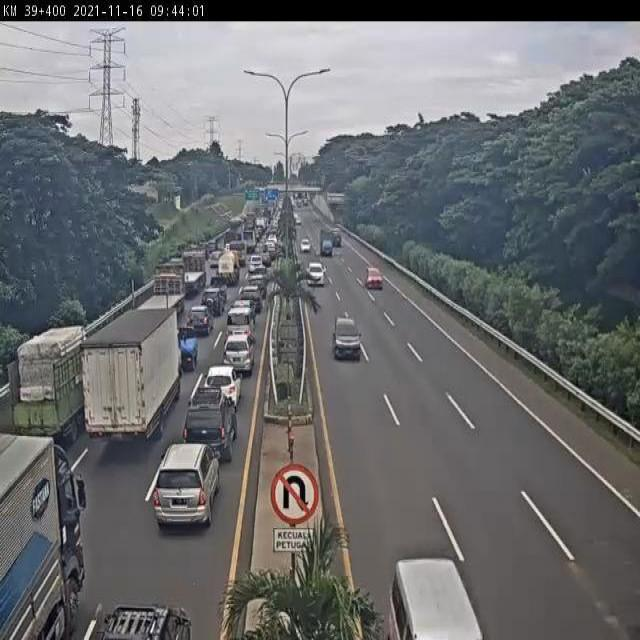car: (154, 441, 223, 532), (186, 385, 237, 459), (330, 312, 362, 364), (204, 365, 242, 404), (224, 335, 257, 376), (173, 324, 200, 369), (187, 301, 213, 331), (362, 261, 384, 292), (309, 260, 327, 287)
truck-m-: (80, 308, 185, 448), (7, 326, 94, 450)
